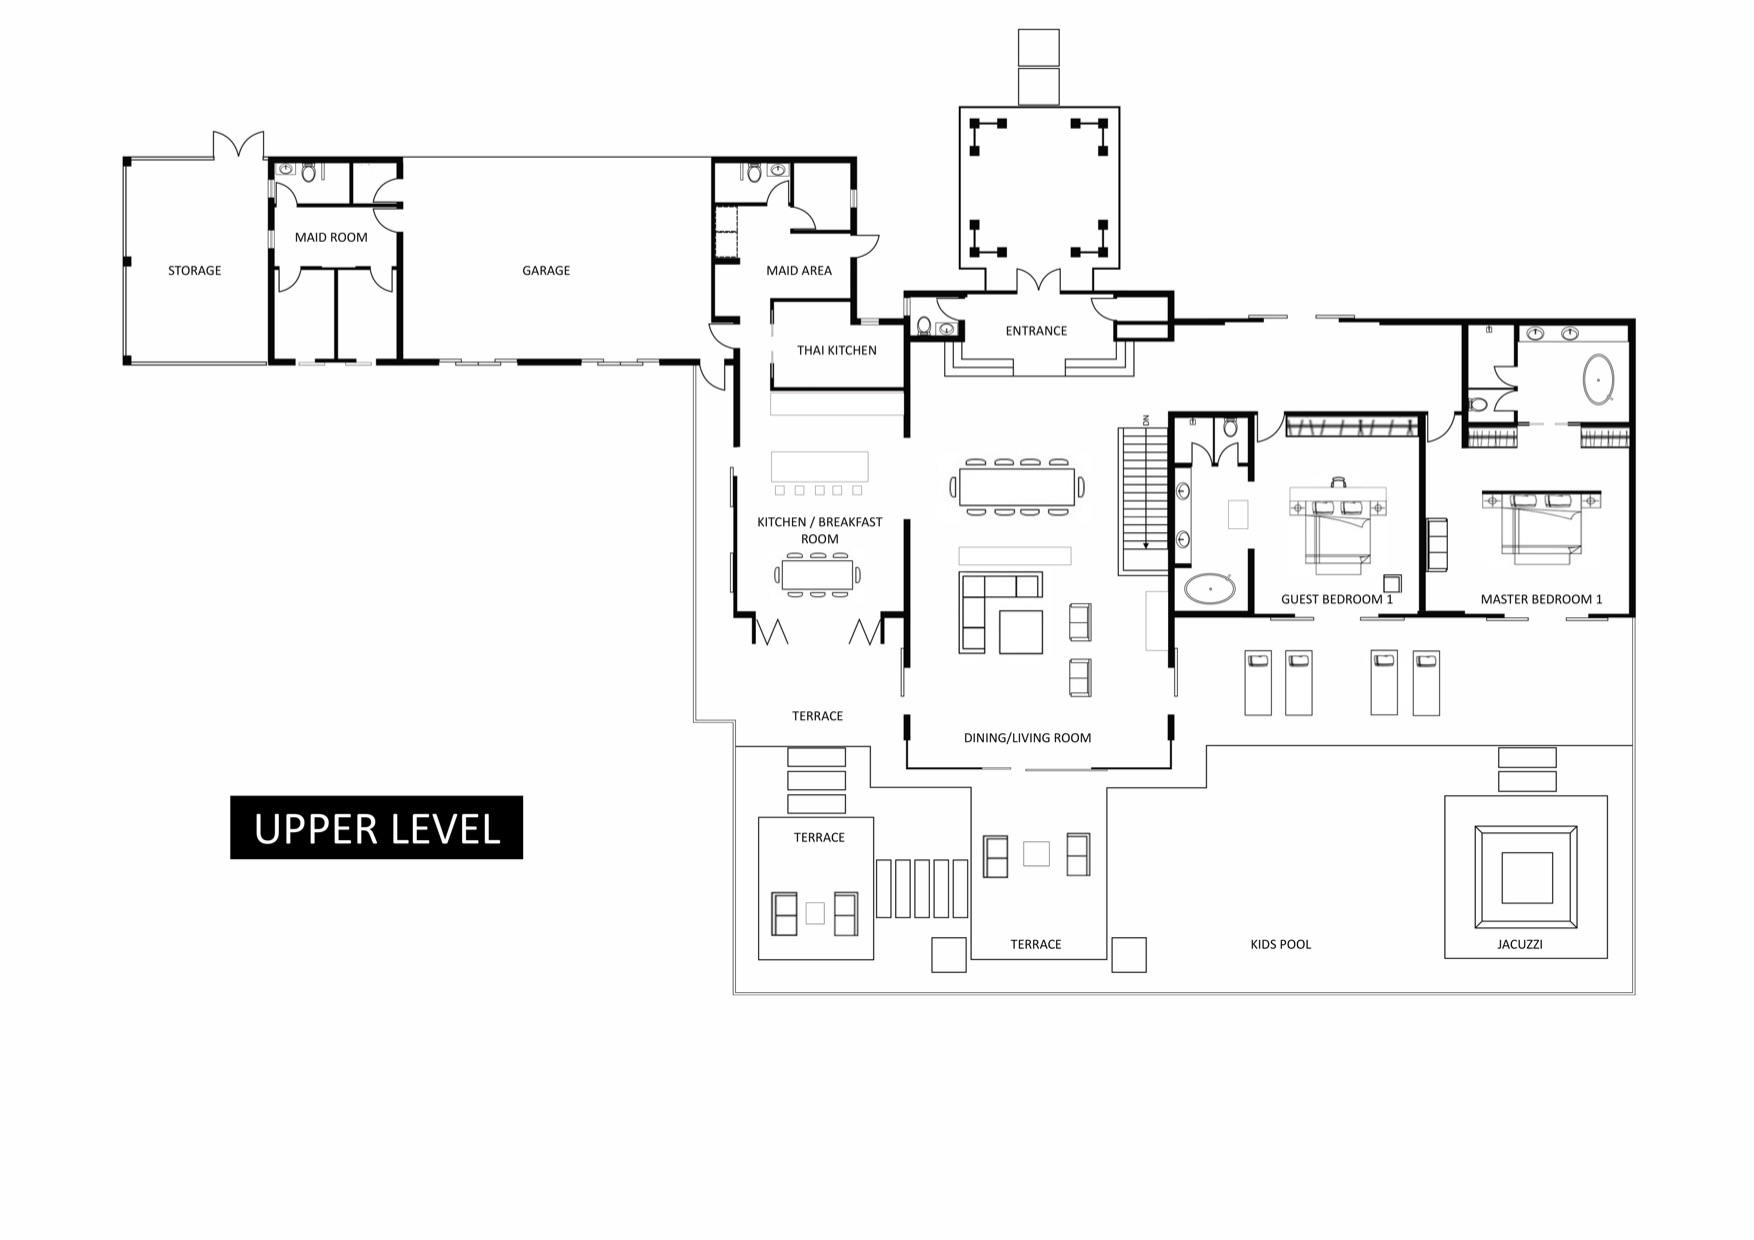room: (896, 327, 1178, 778), (743, 766, 1094, 982), (729, 356, 909, 637), (1424, 415, 1635, 621), (1248, 407, 1435, 620), (710, 152, 862, 309), (267, 187, 407, 286)
